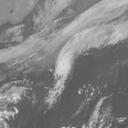cyclone: (45, 44, 80, 99)
